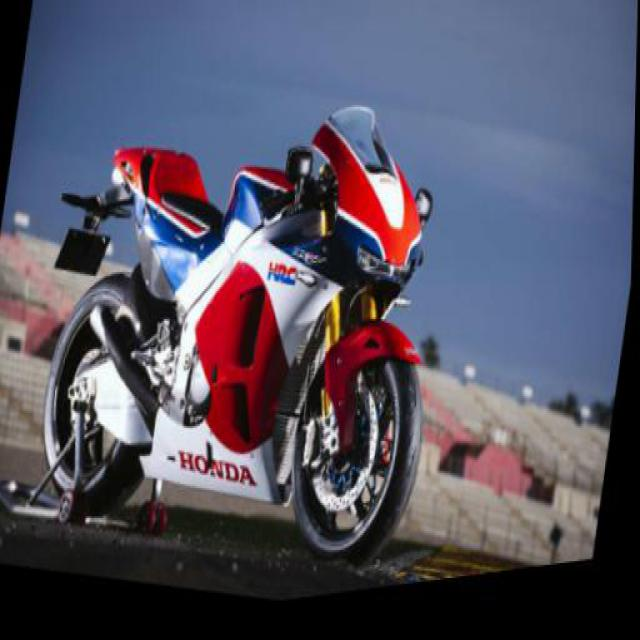HRC RCV 213: (27, 24, 473, 616)
